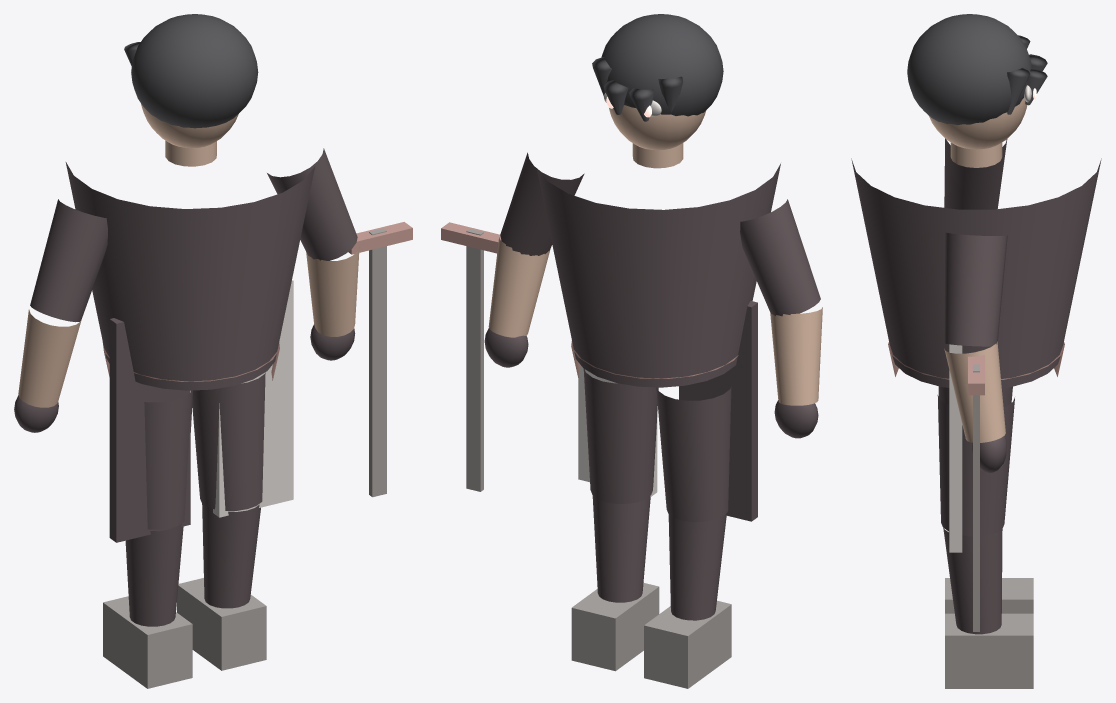
File: crowd-procedural-v1.glb
The picture shows the model from 3 angles, left to right: view 1: azimuth 30°, elevation 25°; view 2: azimuth 150°, elevation 25°; view 3: azimuth 270°, elevation 25°; orthographic projection. The views are drawn at different scales.
Parts seen in each view (by area): view 1: Outfit_Torso, Hair_Cap, Outfit_CoatTail_L, Body_Thigh_R, Body_UpperArm_L, Outfit_CoatTail_R, Outfit_Boot_L, Body_Thigh_L, Outfit_Boot_R, Body_Shin_R, Body_Shin_L, Weapon_SwordBlade (+8 smaller); view 2: Outfit_Torso, Hair_Cap, Body_Thigh_L, Body_Thigh_R, Outfit_CoatTail_L, Body_UpperArm_L, Outfit_Boot_L, Outfit_Boot_R, Body_Shin_R, Body_Shin_L, Weapon_SwordBlade, Body_Forearm_L (+8 smaller); view 3: Outfit_Torso, Hair_Cap, Body_UpperArm_R, Outfit_Boot_R, Body_Thigh_R, Body_Shin_R, Body_Forearm_R, Body_UpperArm_L, Outfit_CoatTail_R, Body_Head, Weapon_SwordBlade, Outfit_Boot_L (+5 smaller).
Part boxes in pixels (x1=…): Outfit_Torso: x1=65, y1=162, x2=315, y2=390; Hair_Cap: x1=131, y1=14, x2=258, y2=128; Outfit_CoatTail_L: x1=109, y1=318, x2=190, y2=542; Body_Thigh_R: x1=191, y1=372, x2=265, y2=510; Body_UpperArm_L: x1=30, y1=199, x2=107, y2=322; Outfit_CoatTail_R: x1=213, y1=280, x2=293, y2=517; Outfit_Boot_L: x1=103, y1=596, x2=192, y2=688; Body_Thigh_L: x1=144, y1=390, x2=192, y2=529; Outfit_Boot_R: x1=177, y1=578, x2=266, y2=670; Body_Shin_R: x1=202, y1=503, x2=260, y2=608; Body_Shin_L: x1=125, y1=523, x2=183, y2=626; Weapon_SwordBlade: x1=369, y1=228, x2=386, y2=497; Outfit_Torso: x1=536, y1=163, x2=780, y2=387; Hair_Cap: x1=601, y1=14, x2=723, y2=116; Body_Thigh_L: x1=656, y1=386, x2=731, y2=522; Body_Thigh_R: x1=583, y1=369, x2=658, y2=503; Outfit_CoatTail_L: x1=679, y1=301, x2=757, y2=521; Body_UpperArm_L: x1=740, y1=199, x2=820, y2=316; Outfit_Boot_L: x1=644, y1=600, x2=731, y2=688; Outfit_Boot_R: x1=571, y1=583, x2=659, y2=671; Body_Shin_R: x1=592, y1=495, x2=650, y2=602; Body_Shin_L: x1=668, y1=514, x2=726, y2=620; Weapon_SwordBlade: x1=466, y1=229, x2=483, y2=491; Body_Forearm_L: x1=770, y1=307, x2=822, y2=405; Outfit_Torso: x1=851, y1=158, x2=1101, y2=387; Hair_Cap: x1=907, y1=14, x2=1031, y2=125; Body_UpperArm_R: x1=944, y1=232, x2=1007, y2=346; Outfit_Boot_R: x1=945, y1=613, x2=1033, y2=688; Body_Thigh_R: x1=937, y1=395, x2=1014, y2=536; Body_Shin_R: x1=943, y1=528, x2=1002, y2=634; Body_Forearm_R: x1=944, y1=341, x2=1005, y2=442; Body_UpperArm_L: x1=944, y1=138, x2=1007, y2=209; Outfit_CoatTail_R: x1=949, y1=344, x2=962, y2=552; Body_Head: x1=929, y1=98, x2=1027, y2=149; Weapon_SwordBlade: x1=973, y1=364, x2=979, y2=631; Outfit_Boot_L: x1=945, y1=578, x2=1033, y2=613.
Size of the model in its own units: 1.18 by 1.88 by 0.6685.
